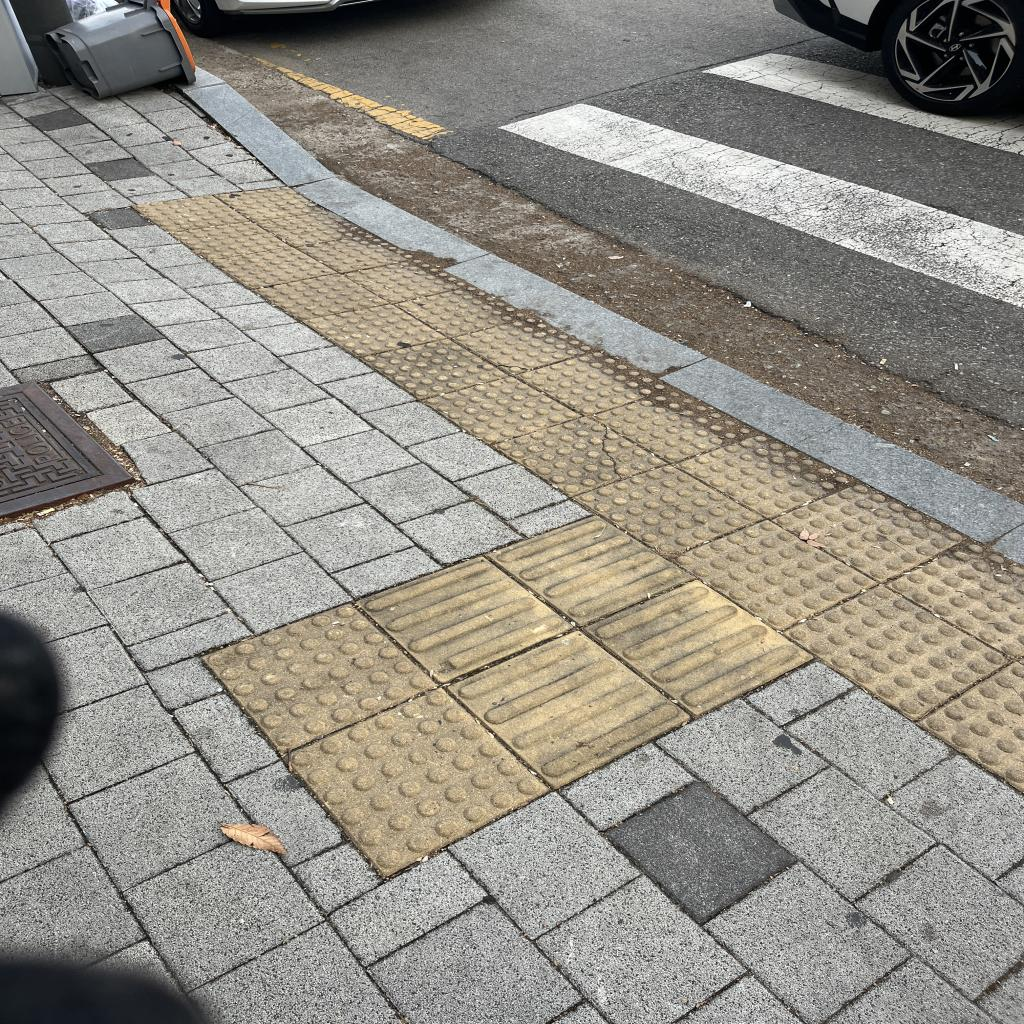Stop block broken: (494, 396, 667, 513)
Stop block normal: (288, 655, 547, 890), (570, 432, 763, 589), (424, 357, 580, 459)
Straight block normal: (358, 528, 573, 700)
